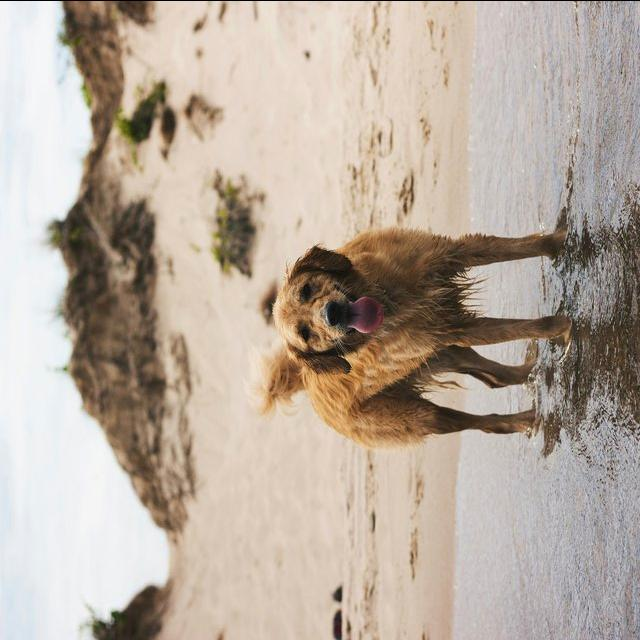retriever: (245, 210, 573, 451)
